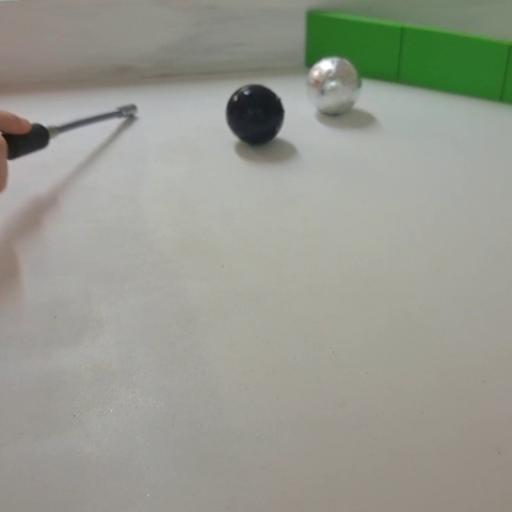alive: (306, 56, 360, 116)
dead: (224, 82, 286, 146)
